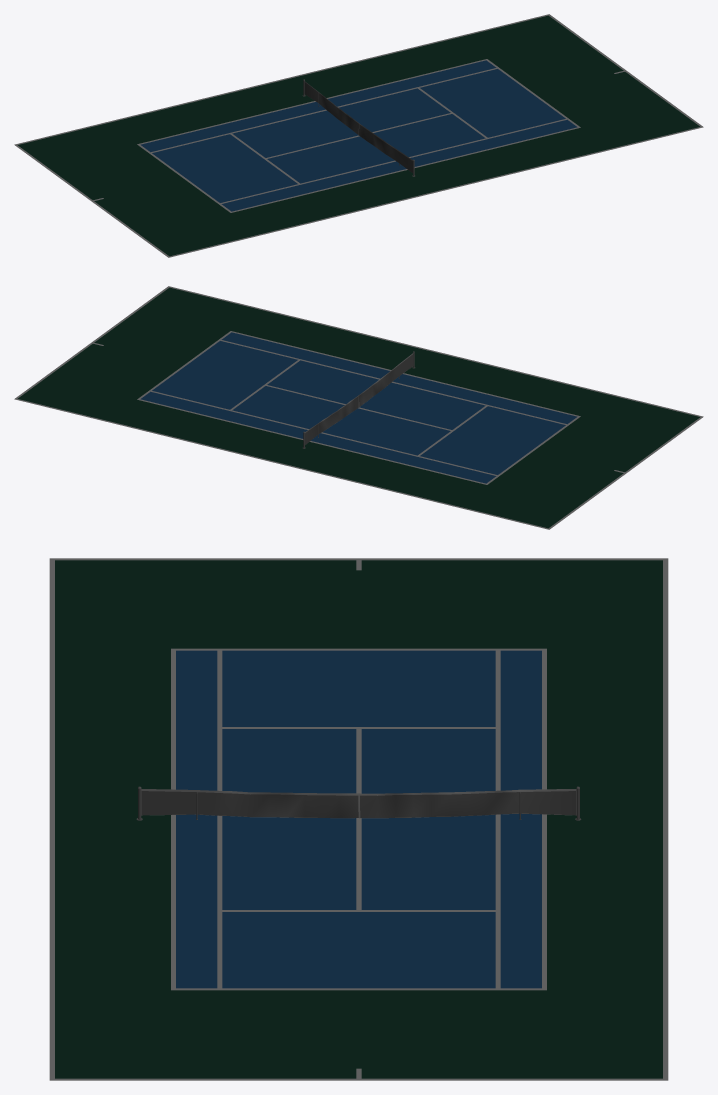
The model's file is Tenis_KORT_corona.fbx.
3 views of the same model, one above another, from view 1: azimuth 30°, elevation 25°; view 2: azimuth 150°, elevation 25°; view 3: azimuth 270°, elevation 25° (orthographic). The views are drawn at different scales.
Parts seen in each view (by area): view 1: Tenis_KORT_001; view 2: Tenis_KORT_001; view 3: Tenis_KORT_001.
Boxes of the visible parts, x1,y1,x2,y2 form: Tenis_KORT_001: (14, 14, 703, 257); Tenis_KORT_001: (14, 286, 703, 529); Tenis_KORT_001: (49, 558, 668, 1080).
Bounding box in the file's own units: 36570 × 1061 × 18290.
